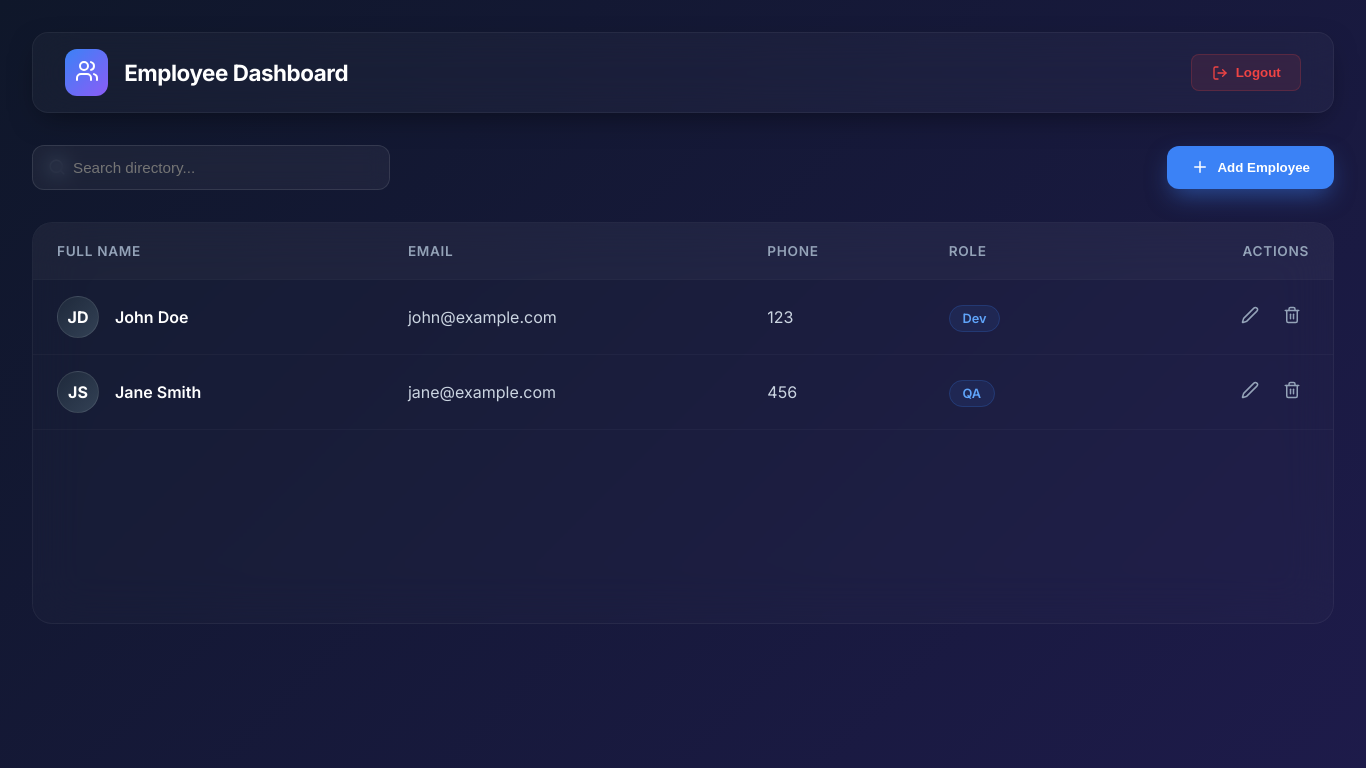
Test: EmployeeDashboard Component › handles deleting an employee
Expected: the text "John Doe" is shown, [115, 307, 188, 327]
Click the button titled "Delete" in the row of "Doe" at (1292, 317), box [1275, 298, 1309, 335]
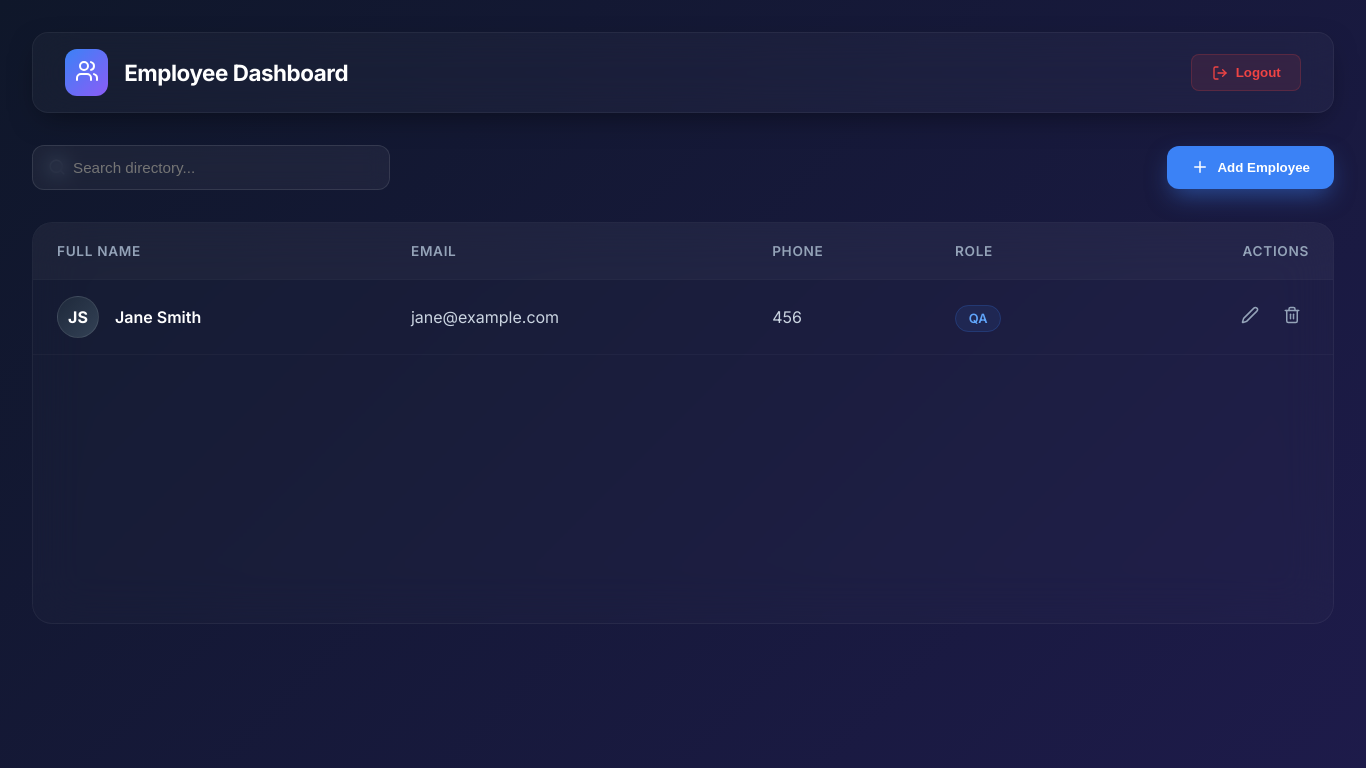
Expected: the text "John Doe" is gone
